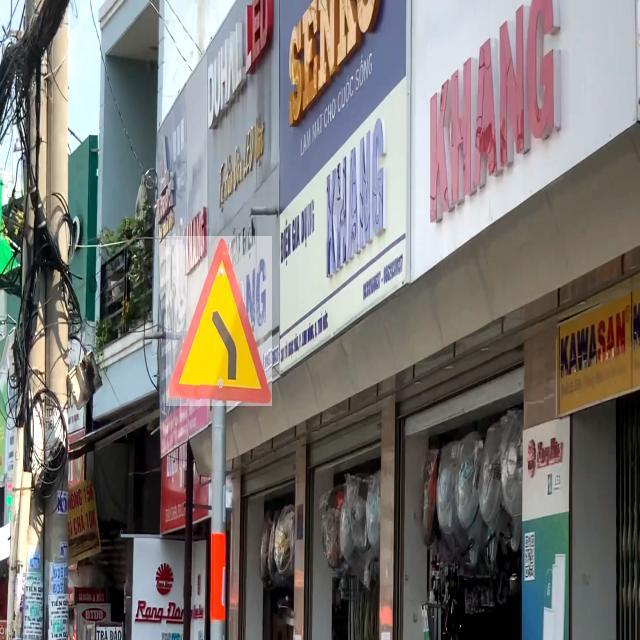W-201a: (167, 236, 273, 406)
